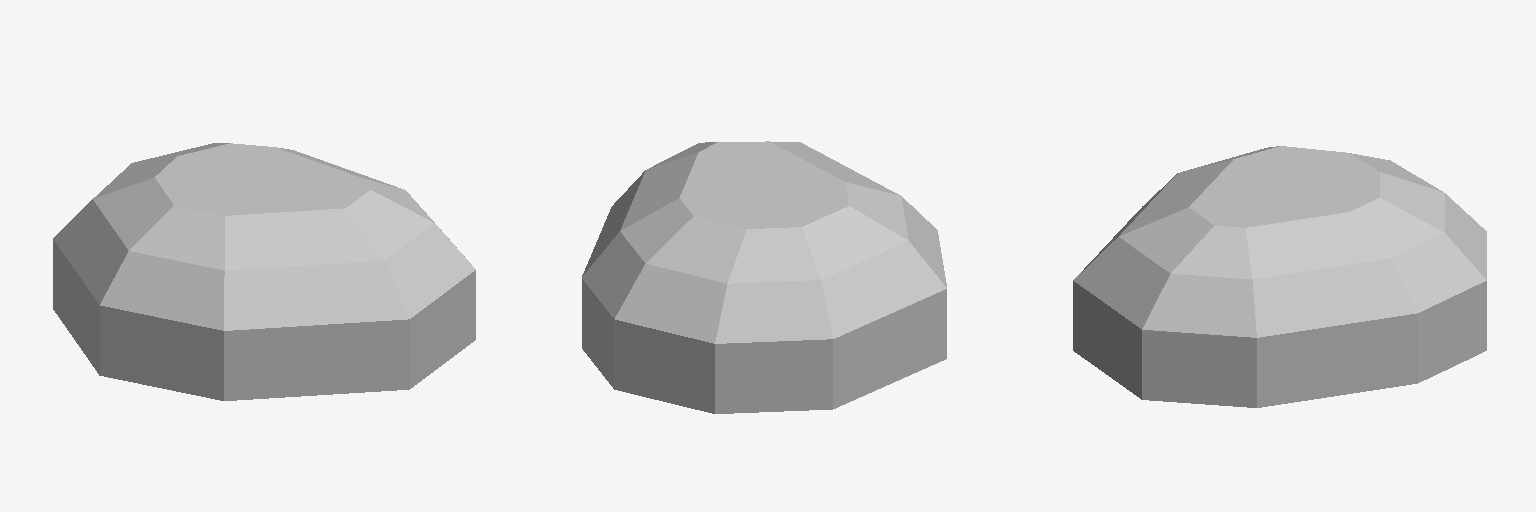
The model's file is Prop_Rock_3.obj.
3 views of the same model, side by side, from view 1: azimuth 30°, elevation 25°; view 2: azimuth 150°, elevation 25°; view 3: azimuth 270°, elevation 25° (orthographic).
Visible parts, largest first — view 1: object1; view 2: object1; view 3: object1.
Boxes of the visible parts, box(x1,y1,x2,y2) form: object1: box(53, 143, 475, 400); object1: box(582, 141, 946, 413); object1: box(1073, 146, 1486, 407).
Size of the model in its own units: 0.75 by 0.3 by 0.8.